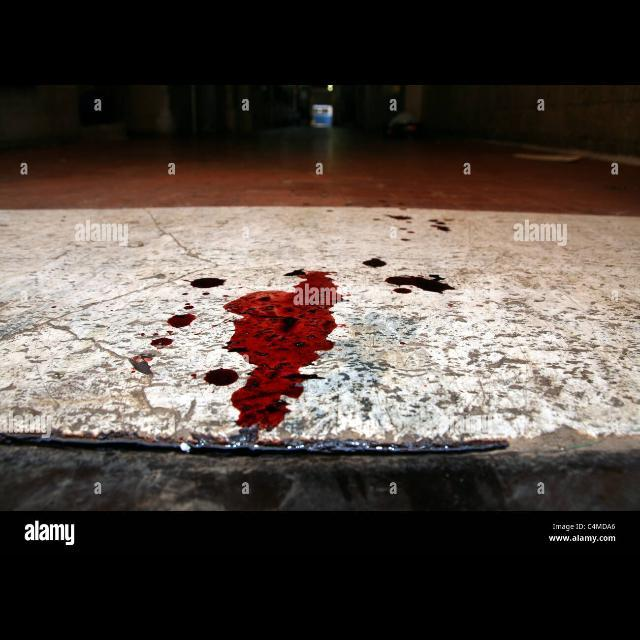blood: (221, 269, 352, 445), (384, 275, 455, 294), (203, 368, 239, 386), (166, 313, 196, 328), (189, 278, 226, 288), (362, 258, 387, 268), (150, 338, 173, 346), (392, 288, 412, 294)
